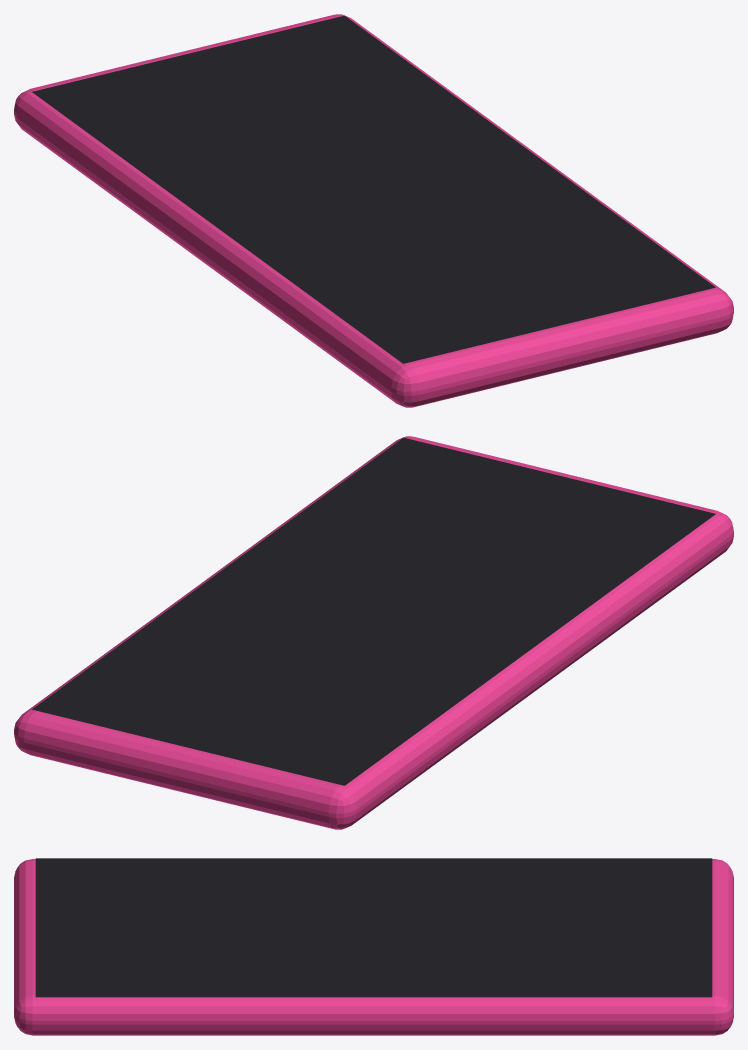
Rendered from google-pixel-model-376-budget-2026.glb.
3 renders of one model, top to bottom at view 1: azimuth 30°, elevation 25°; view 2: azimuth 150°, elevation 25°; view 3: azimuth 270°, elevation 25°, orthographic. The views are drawn at different scales.
Visible parts, largest first — view 1: Phone_Screen, Phone_Body; view 2: Phone_Screen, Phone_Body; view 3: Phone_Screen, Phone_Body.
Boxes of the visible parts, x1,y1,x2,y2 form: Phone_Screen: (32,15,715,363); Phone_Body: (14,14,733,407); Phone_Screen: (32,437,715,785); Phone_Body: (14,436,733,829); Phone_Screen: (35,858,712,997); Phone_Body: (14,859,733,1035).
Size of the model in its own units: 0.0703 by 0.0083 by 0.1415.
